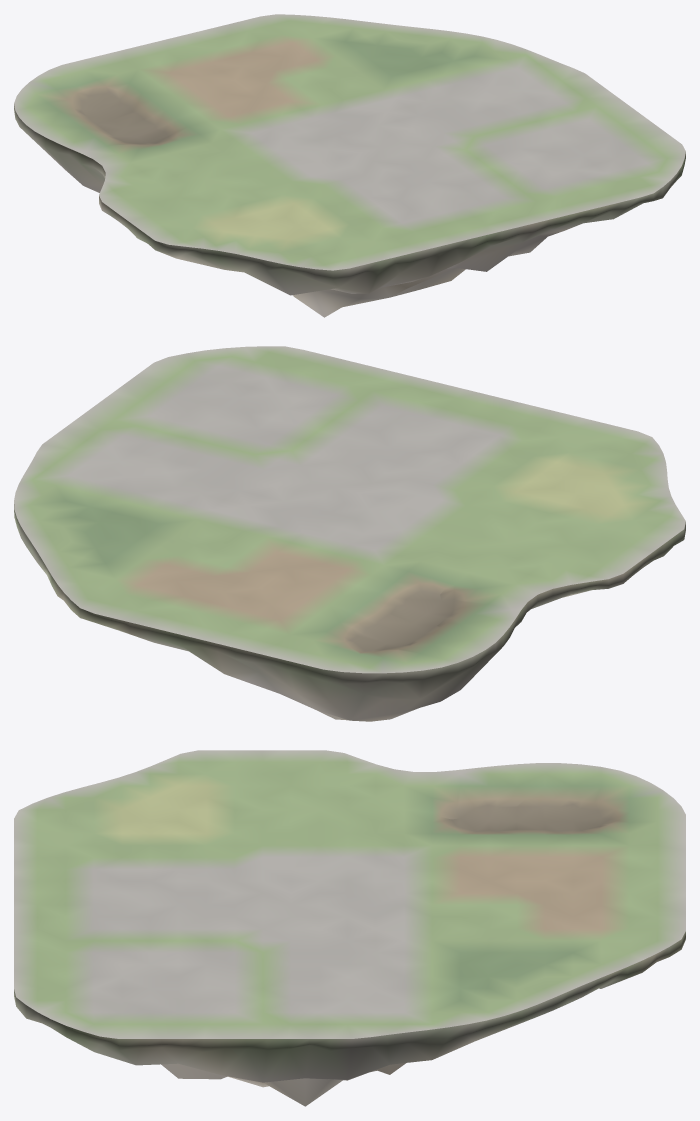
Rendered from SKY-028.rock.glb.
3 views of the same model, one above another, from view 1: azimuth 30°, elevation 25°; view 2: azimuth 150°, elevation 25°; view 3: azimuth 270°, elevation 25° (orthographic). The views are drawn at different scales.
Visible parts, largest first — view 1: deck-col, rock; view 2: deck-col, rock; view 3: deck-col, rock.
Part boxes in pixels (left/top/right/bottom): deck-col: left=14, top=14, right=685, bottom=270; rock: left=14, top=104, right=685, bottom=317; deck-col: left=14, top=346, right=685, bottom=673; rock: left=14, top=504, right=685, bottom=721; deck-col: left=14, top=750, right=685, bottom=1038; rock: left=14, top=931, right=685, bottom=1106.
Bounding box in the file's own units: 96.97 × 30.35 × 95.34.
